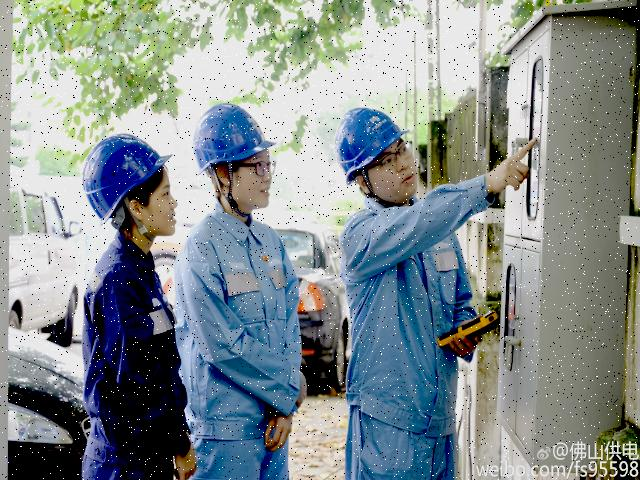Helmet: (78, 129, 178, 232), (188, 100, 279, 184), (332, 102, 415, 191)
